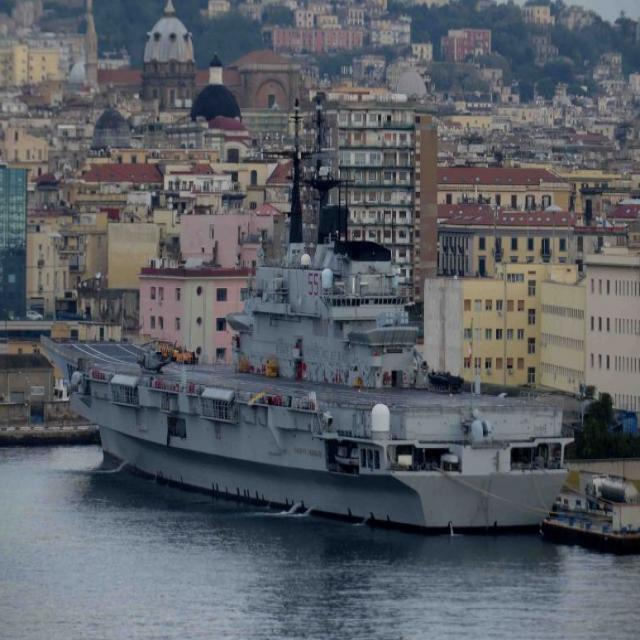Portanaves: (36, 102, 577, 539)
